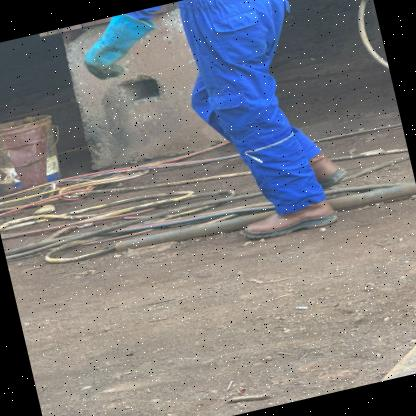bota: (232, 192, 344, 248), (298, 142, 354, 194)
